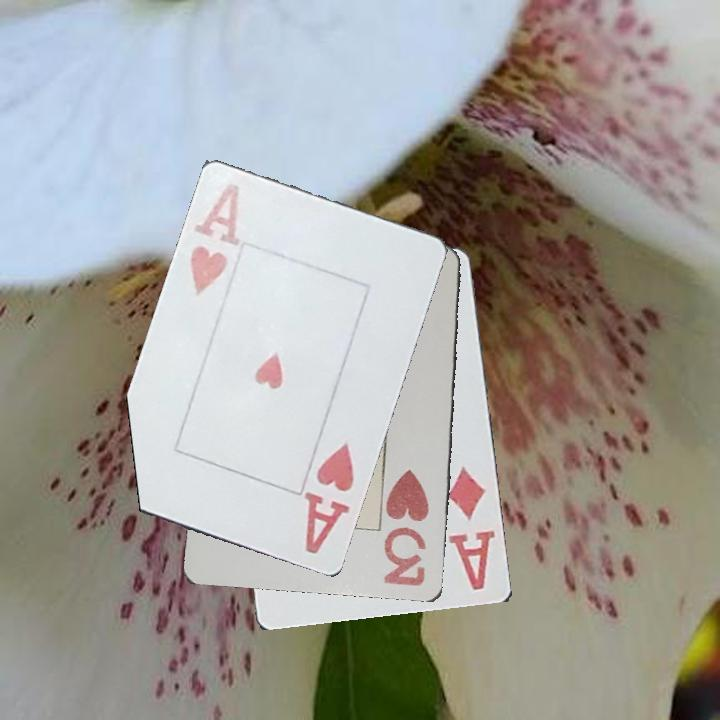3h: (380, 466, 432, 590)
Ad: (443, 463, 499, 594)
Ah: (187, 179, 244, 300), (301, 440, 358, 558)
